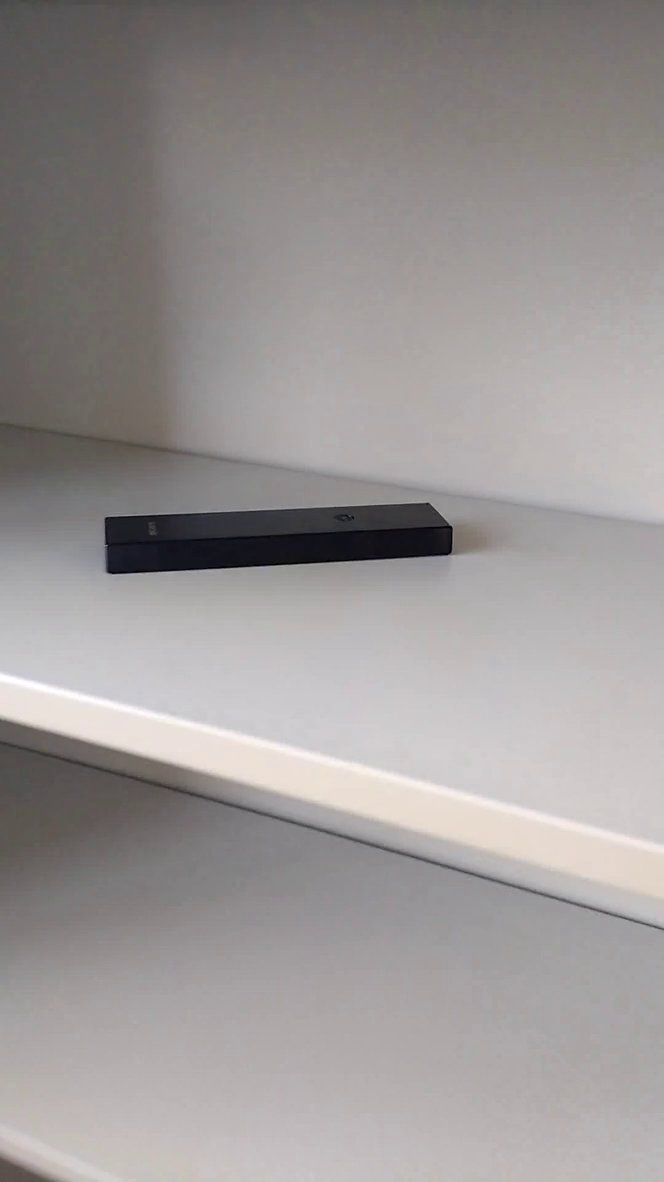remote: (97, 491, 462, 589)
